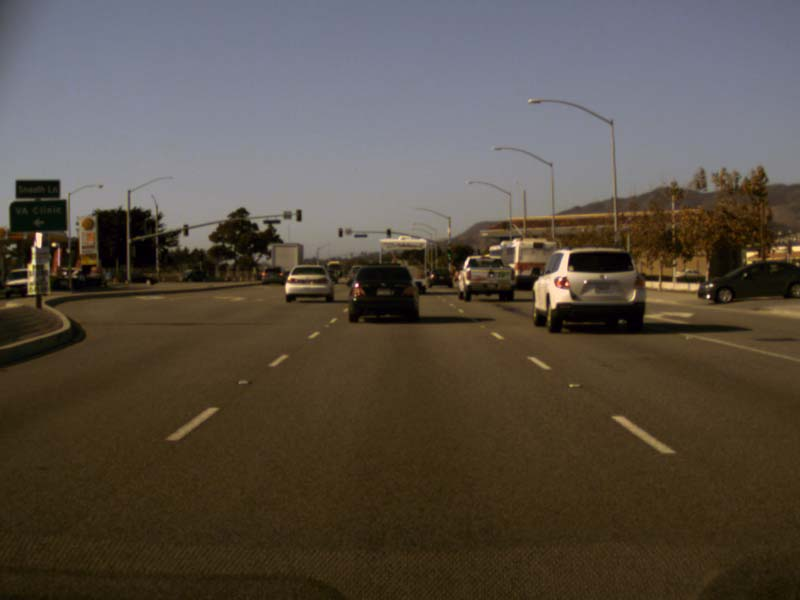Green: (386, 228, 391, 237)
Red: (338, 227, 342, 237)
